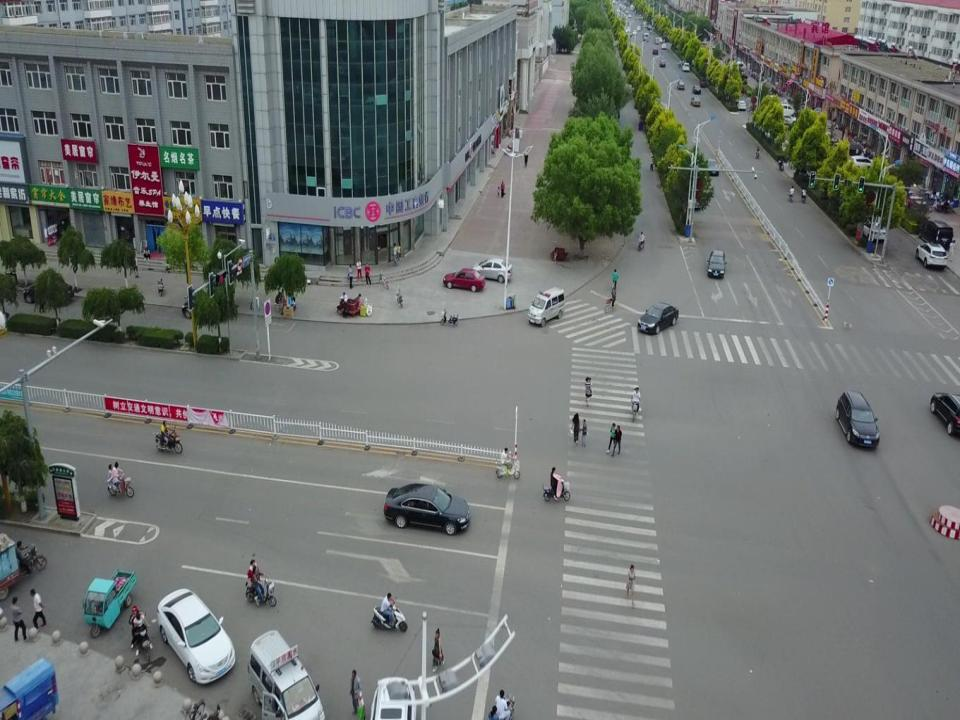car: (157, 588, 236, 684), (835, 391, 880, 447), (370, 676, 416, 720), (182, 292, 236, 319), (930, 391, 960, 438), (637, 302, 679, 334), (23, 280, 74, 304), (442, 268, 486, 292), (471, 258, 513, 282), (915, 242, 947, 268), (860, 218, 886, 241), (707, 251, 727, 278), (848, 154, 874, 170), (840, 142, 863, 155), (775, 102, 796, 115), (775, 113, 796, 126), (705, 158, 719, 175), (725, 60, 744, 72), (736, 99, 747, 110), (690, 96, 701, 105), (691, 85, 702, 93), (682, 61, 690, 72), (677, 80, 685, 90), (660, 58, 666, 69)
van: (247, 629, 325, 720), (528, 287, 565, 327), (918, 219, 954, 247)
